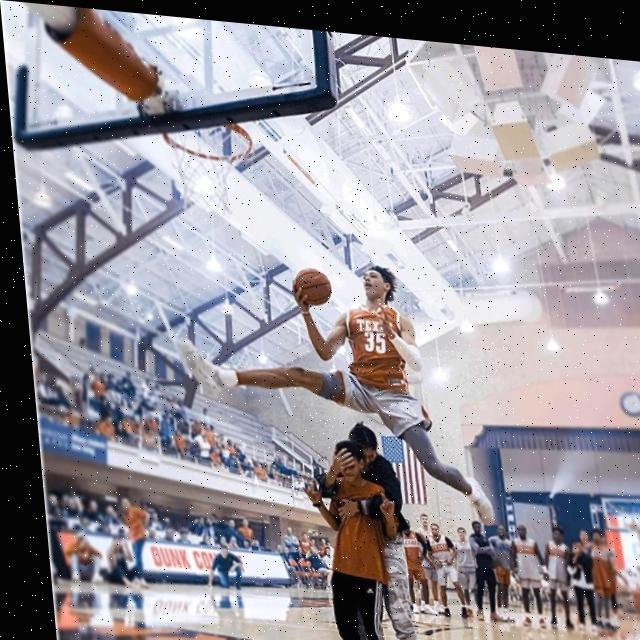basketball: (294, 266, 333, 308)
hoop: (163, 113, 260, 220)
